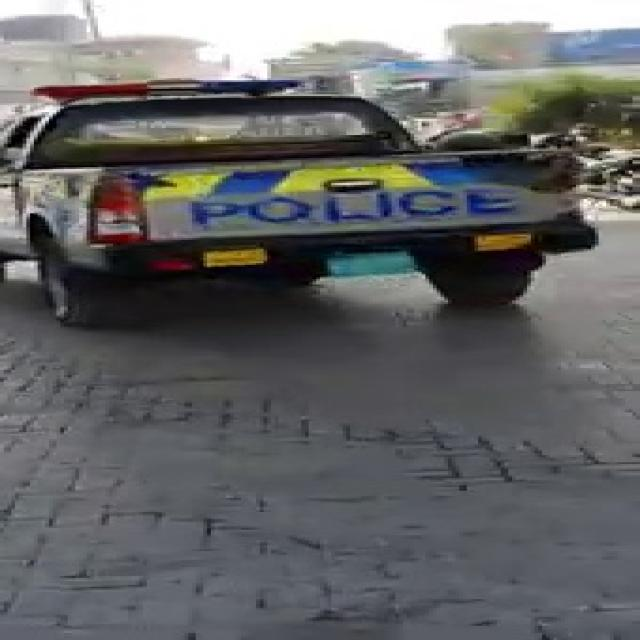police: (0, 91, 570, 296)
